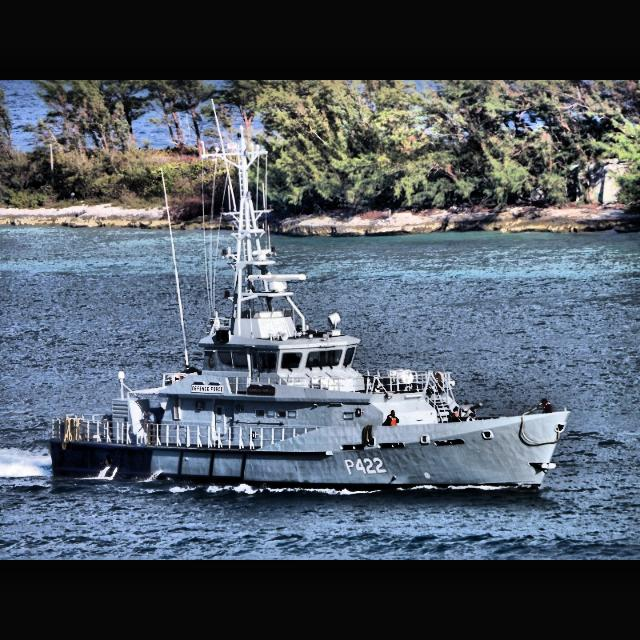combat_vessel: (45, 197, 577, 496)
